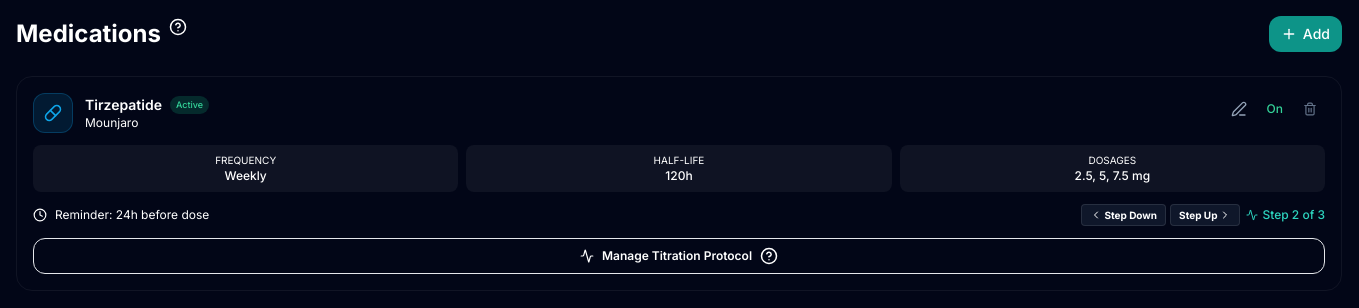
Test: Medications page › allows stepping down and stepping up active protocol from medication card
The width and height of the screenshot is (1359, 308).
Expected: the text "Step 2 of 3" is shown, [1246, 207, 1325, 223]
Click the button titled "Step Down Protocol": [1124, 215] box [1081, 204, 1166, 226]
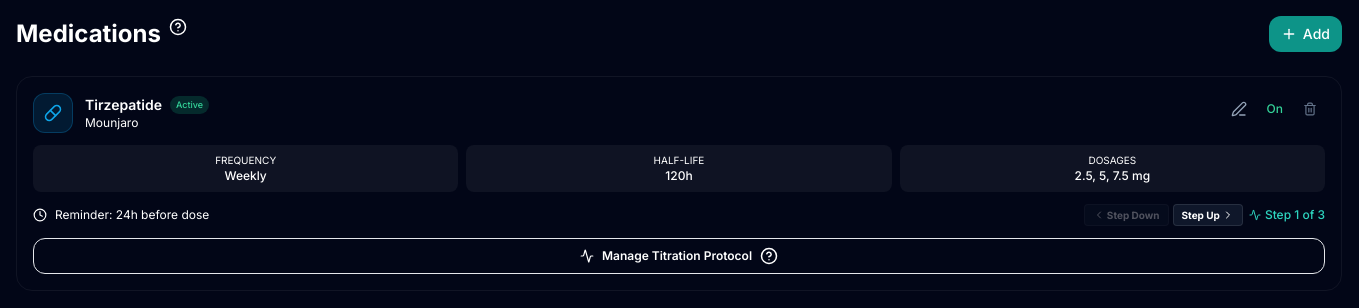
Result: the text "Step 1 of 3" is shown at [1249, 207, 1325, 223]
